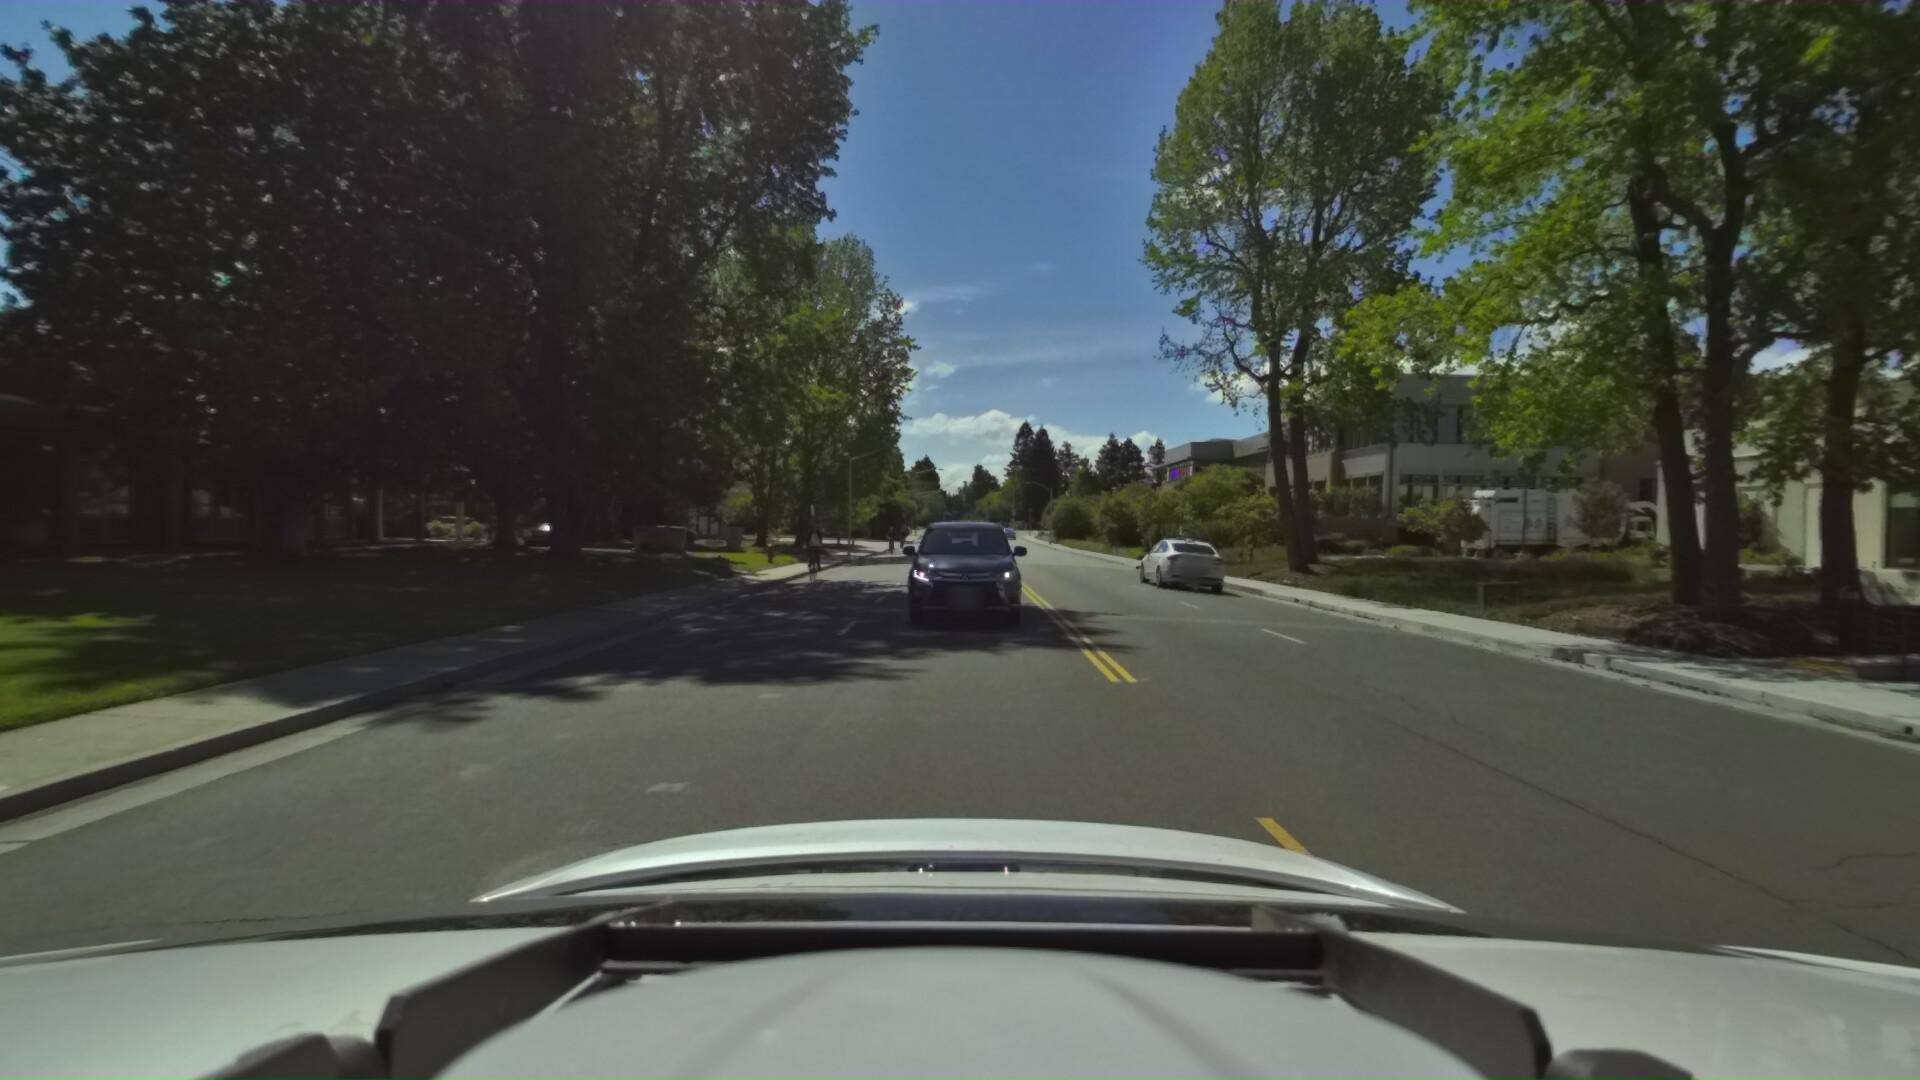bicycle: (789, 517, 825, 582), (878, 524, 895, 555), (893, 524, 906, 549)
car: (887, 512, 1026, 637), (1129, 526, 1226, 589)
